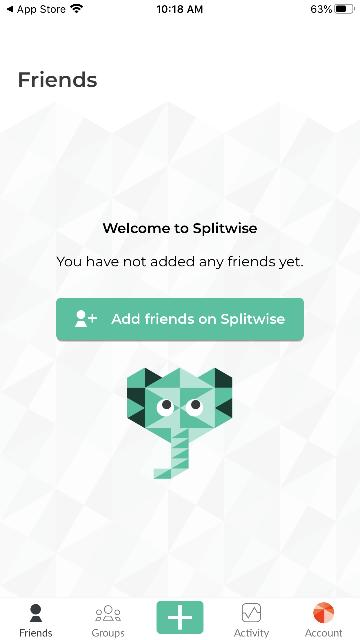Bottom_Navigation: (0, 598, 360, 640)
Icon: (168, 605, 192, 629), (314, 602, 334, 622), (95, 606, 121, 620), (76, 310, 96, 328), (241, 604, 260, 622), (30, 604, 42, 622)
Image: (127, 368, 232, 478)
ImageButton: (157, 600, 203, 634)
Text: (56, 256, 302, 268), (112, 314, 284, 326), (103, 222, 257, 235), (19, 71, 97, 87), (233, 628, 268, 638), (92, 628, 124, 638), (20, 628, 52, 636), (306, 630, 342, 636)
TextImageButton: (56, 298, 304, 342), (306, 602, 342, 636), (233, 604, 268, 638), (92, 606, 124, 638), (20, 604, 52, 636)
UpperTaskBar: (0, 0, 360, 14)
